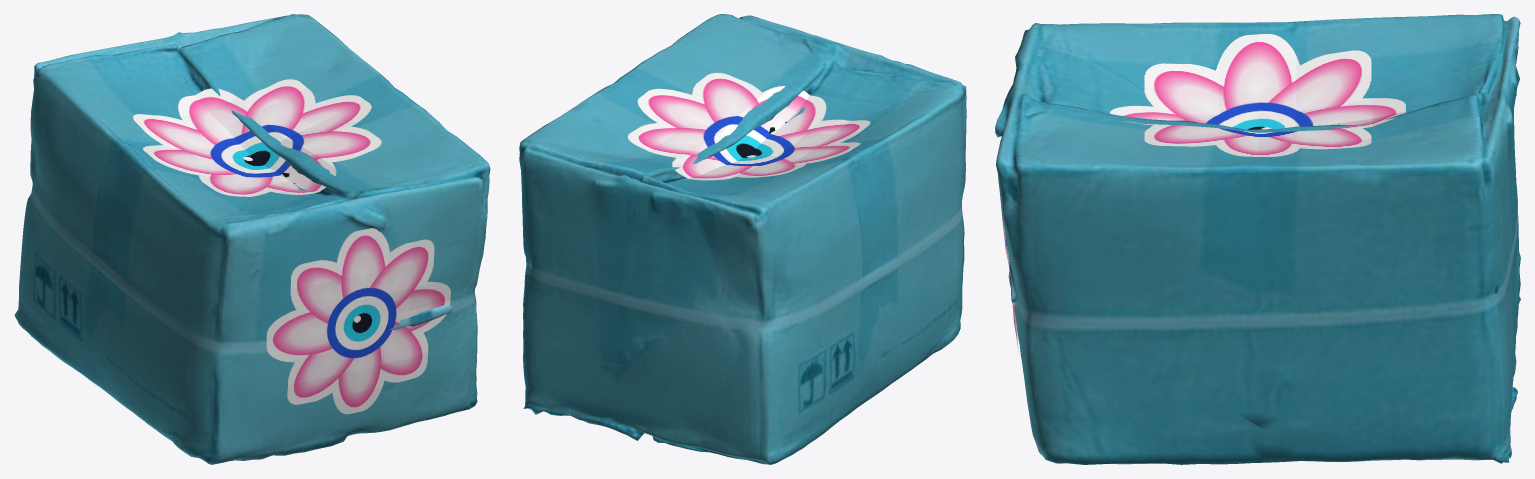
Rendered from nyb_rink_gift_b.glb.
The picture shows the model from 3 angles, left to right: view 1: azimuth 30°, elevation 25°; view 2: azimuth 150°, elevation 25°; view 3: azimuth 270°, elevation 25°; orthographic projection. The views are drawn at different scales.
Visible parts, largest first — view 1: cardboard_box_01, stk_eyeflower_die.png, stk_eyeflower_die.png.001; view 2: cardboard_box_01, stk_eyeflower_die.png.001; view 3: cardboard_box_01, stk_eyeflower_die.png.001.
Boxes of the visible parts, x1,y1,x2,y2 form: cardboard_box_01: [14, 14, 490, 464]; stk_eyeflower_die.png: [266, 228, 450, 414]; stk_eyeflower_die.png.001: [133, 79, 381, 196]; cardboard_box_01: [519, 14, 966, 464]; stk_eyeflower_die.png.001: [628, 72, 870, 180]; cardboard_box_01: [995, 14, 1520, 464]; stk_eyeflower_die.png.001: [1110, 33, 1405, 156].
Size of the model in its own units: 0.3871 by 0.3418 by 0.5159.
3 materials, 3 textured.
